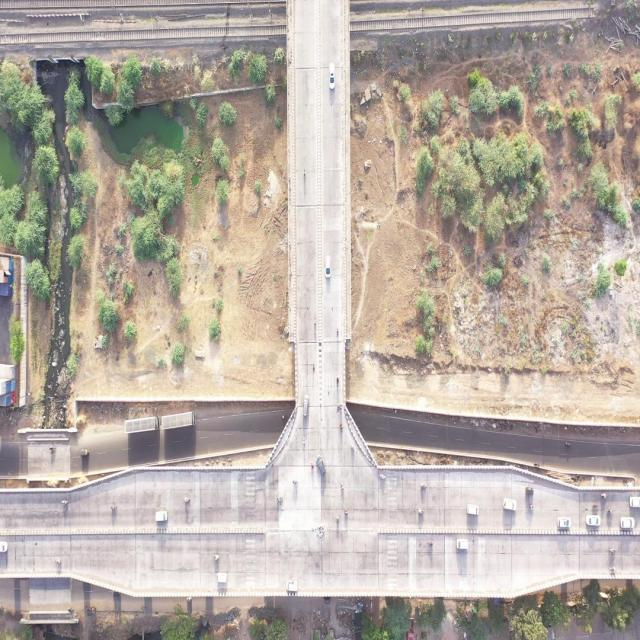3W: (525, 485, 535, 498), (86, 606, 97, 616), (111, 590, 121, 600), (79, 448, 90, 457), (322, 597, 331, 604)
Bus: (161, 409, 197, 432), (124, 415, 160, 435)
Cars: (327, 60, 337, 95), (317, 452, 327, 481), (502, 495, 518, 513), (584, 512, 602, 528), (619, 514, 636, 530), (216, 570, 230, 588), (285, 578, 300, 594), (556, 515, 572, 530), (302, 391, 310, 420), (153, 510, 169, 524), (455, 538, 470, 552), (466, 502, 480, 517), (324, 253, 331, 282), (628, 495, 640, 508), (0, 540, 8, 554)
M2W: (276, 494, 284, 507), (608, 547, 617, 556), (608, 565, 617, 574), (343, 506, 349, 518), (48, 445, 58, 452), (60, 499, 70, 506), (427, 538, 434, 548), (606, 507, 614, 515), (312, 358, 316, 374), (302, 165, 306, 181), (109, 504, 118, 511), (600, 491, 607, 500), (54, 558, 62, 565), (212, 554, 220, 561), (379, 473, 386, 481), (420, 481, 427, 489), (417, 507, 425, 514), (339, 400, 343, 414), (313, 313, 317, 327), (350, 443, 355, 454), (184, 496, 191, 503), (292, 479, 299, 486), (528, 503, 535, 510), (564, 440, 571, 447), (592, 503, 599, 510), (67, 606, 75, 612), (310, 458, 314, 470), (339, 422, 343, 434), (336, 512, 340, 524), (336, 374, 339, 390), (340, 480, 344, 491), (336, 325, 339, 339), (533, 462, 541, 467), (303, 436, 306, 449), (282, 413, 288, 419)
